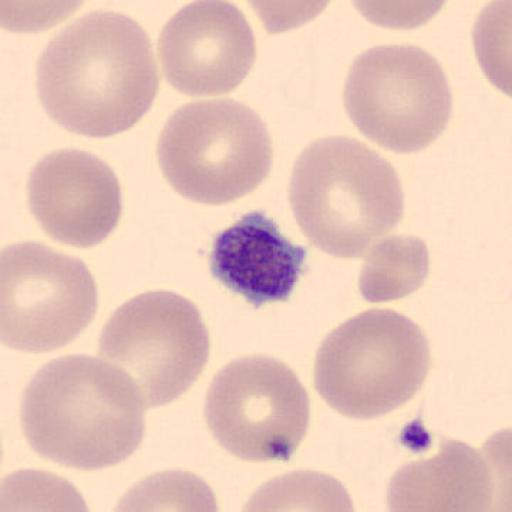Platelet: (204, 208, 312, 308)
RBC: (34, 7, 161, 143), (18, 351, 148, 473), (285, 131, 406, 261), (95, 286, 212, 409), (312, 306, 432, 422), (154, 97, 274, 208), (340, 40, 454, 156), (200, 352, 312, 466), (2, 238, 100, 356), (25, 145, 124, 250), (155, 0, 257, 99), (382, 436, 494, 512), (236, 467, 358, 512), (357, 232, 432, 304), (109, 467, 221, 512), (471, 0, 512, 103), (1, 467, 93, 512), (346, 0, 451, 32), (240, 0, 336, 35), (476, 423, 512, 512), (1, 0, 90, 35)
